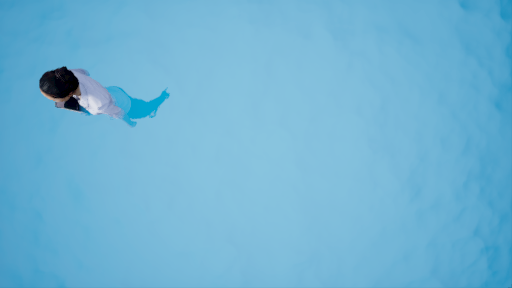person: (29, 64, 172, 131)
